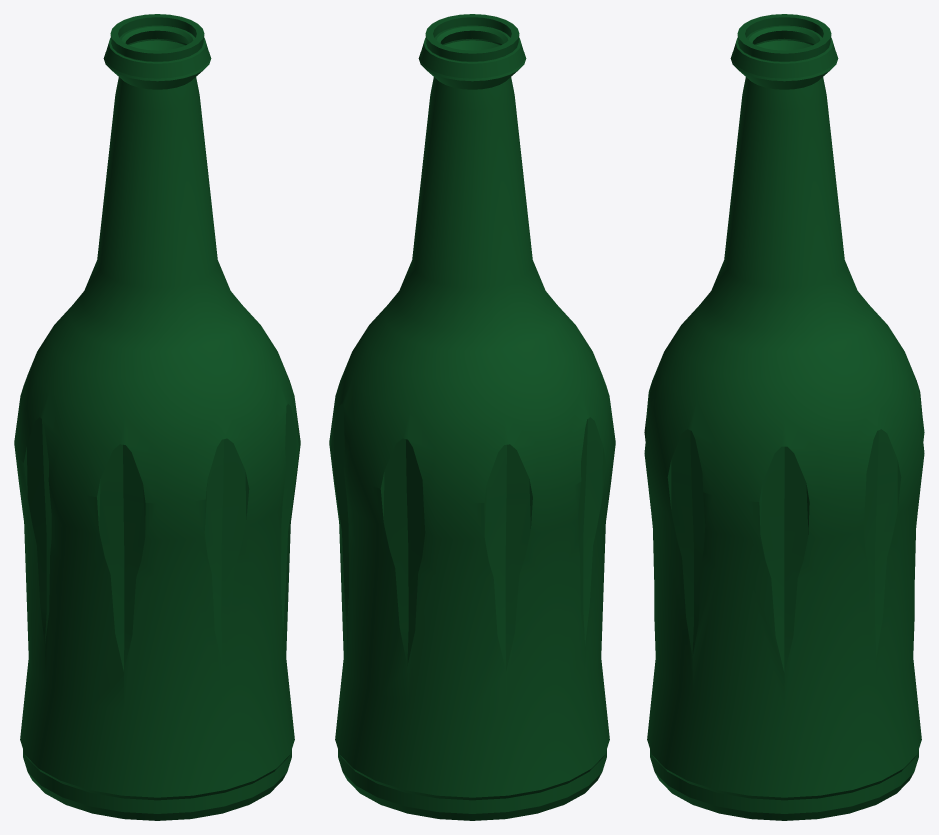
The model's file is drink.glb.
3 views of the same model, side by side, from view 1: azimuth 30°, elevation 25°; view 2: azimuth 150°, elevation 25°; view 3: azimuth 270°, elevation 25° (orthographic).
Parts seen in each view (by area): view 1: Bottle; view 2: Bottle; view 3: Bottle.
Part boxes in pixels (left/top/right/bottom): Bottle: left=14, top=14, right=300, bottom=820; Bottle: left=329, top=14, right=615, bottom=820; Bottle: left=644, top=14, right=924, bottom=820.
Size of the model in its own units: 0.2022 by 0.5835 by 0.2022.
